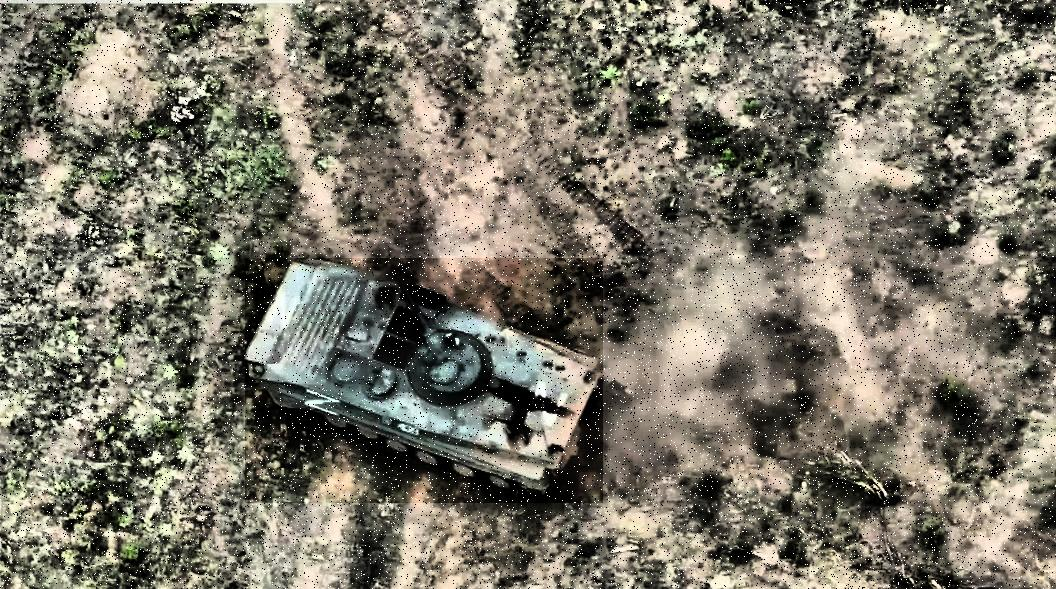military-vehicle: (245, 258, 603, 503)
